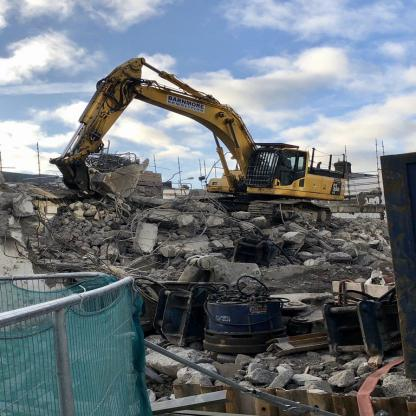rebar: (1, 168, 269, 284), (86, 151, 138, 174)
